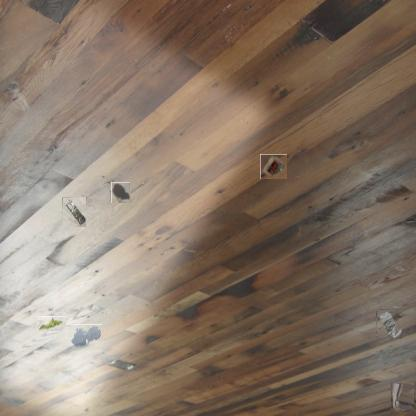dirty: (376, 309, 402, 339), (392, 384, 416, 416), (62, 197, 86, 227), (260, 154, 287, 179), (36, 316, 66, 331)
liquid: (70, 324, 102, 347), (110, 182, 131, 203)
